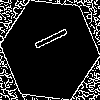I: (25, 25, 69, 56)
